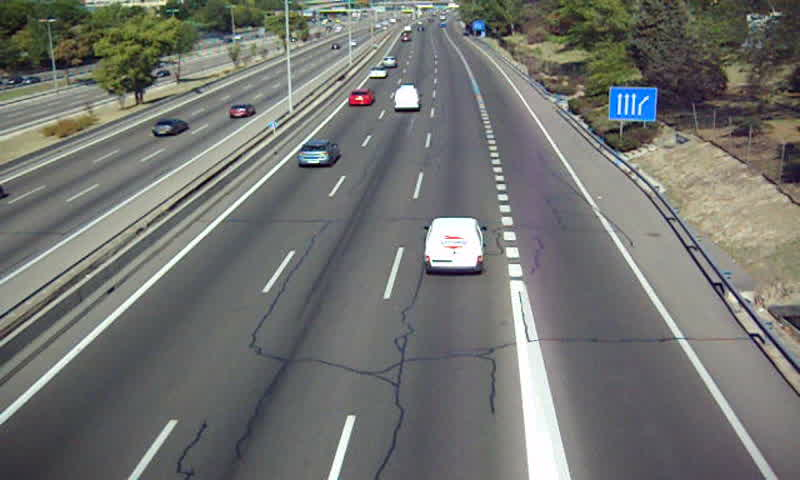car: (297, 139, 339, 166), (348, 89, 372, 106), (369, 66, 387, 80), (382, 55, 394, 68)
van: (424, 217, 485, 271), (394, 84, 419, 111)
